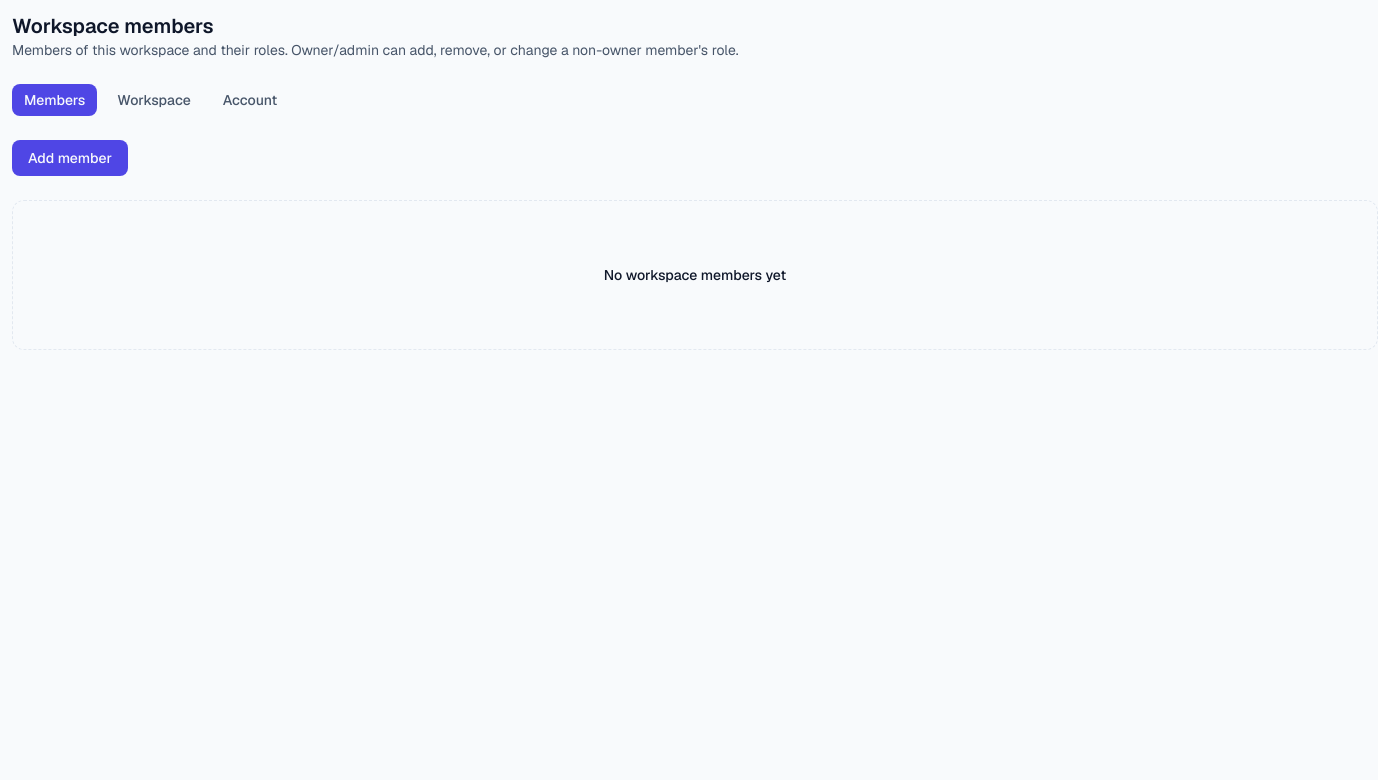
Test: MembersListPage › adding a nonexistent/inactive account shows the real, generic server error
This screenshot has width=1378, height=780.
Expected: the text "No workspace members yet" is shown, [604,266,786,284]
Click the button "Add member": [70, 158] box [12,140,128,176]
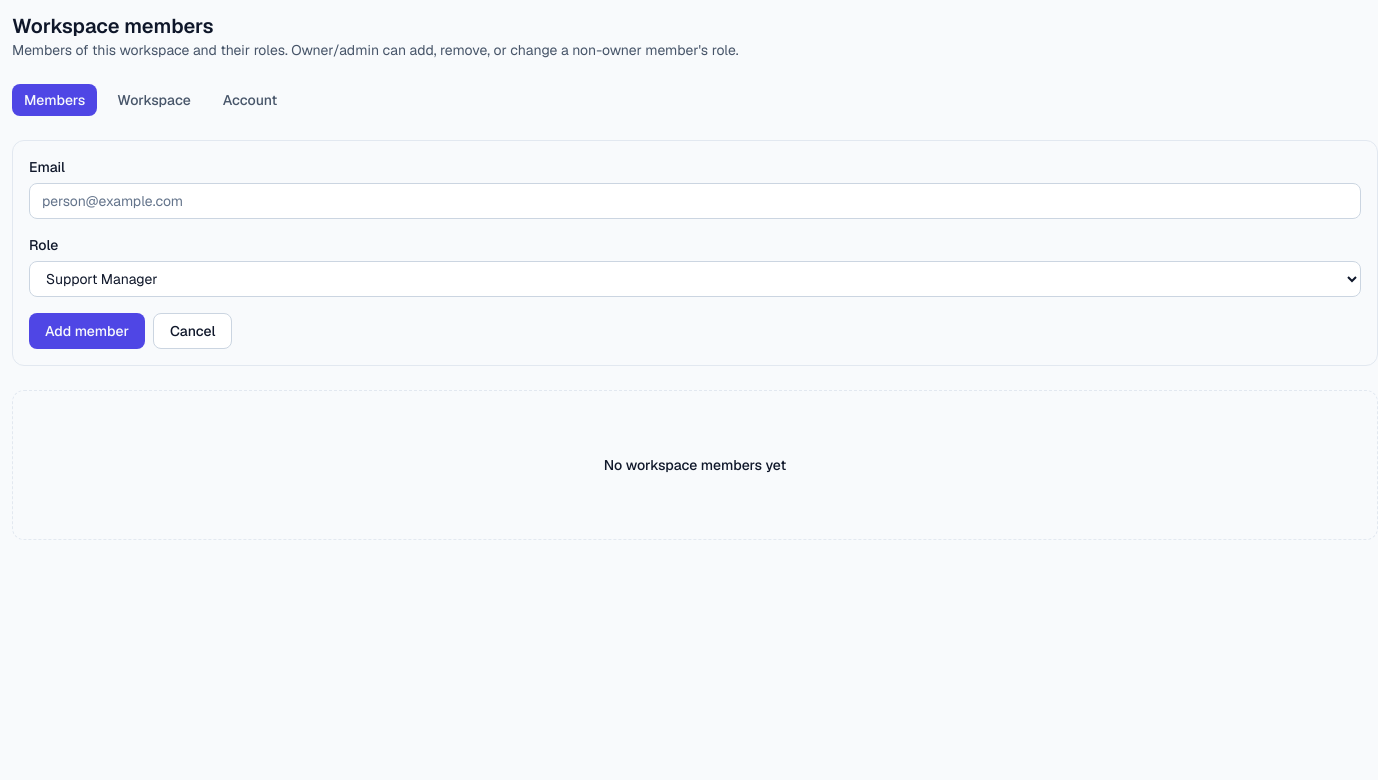
In the field labelled "Email": [695, 201] box [29,183,1361,219], type "unknown@example.com"
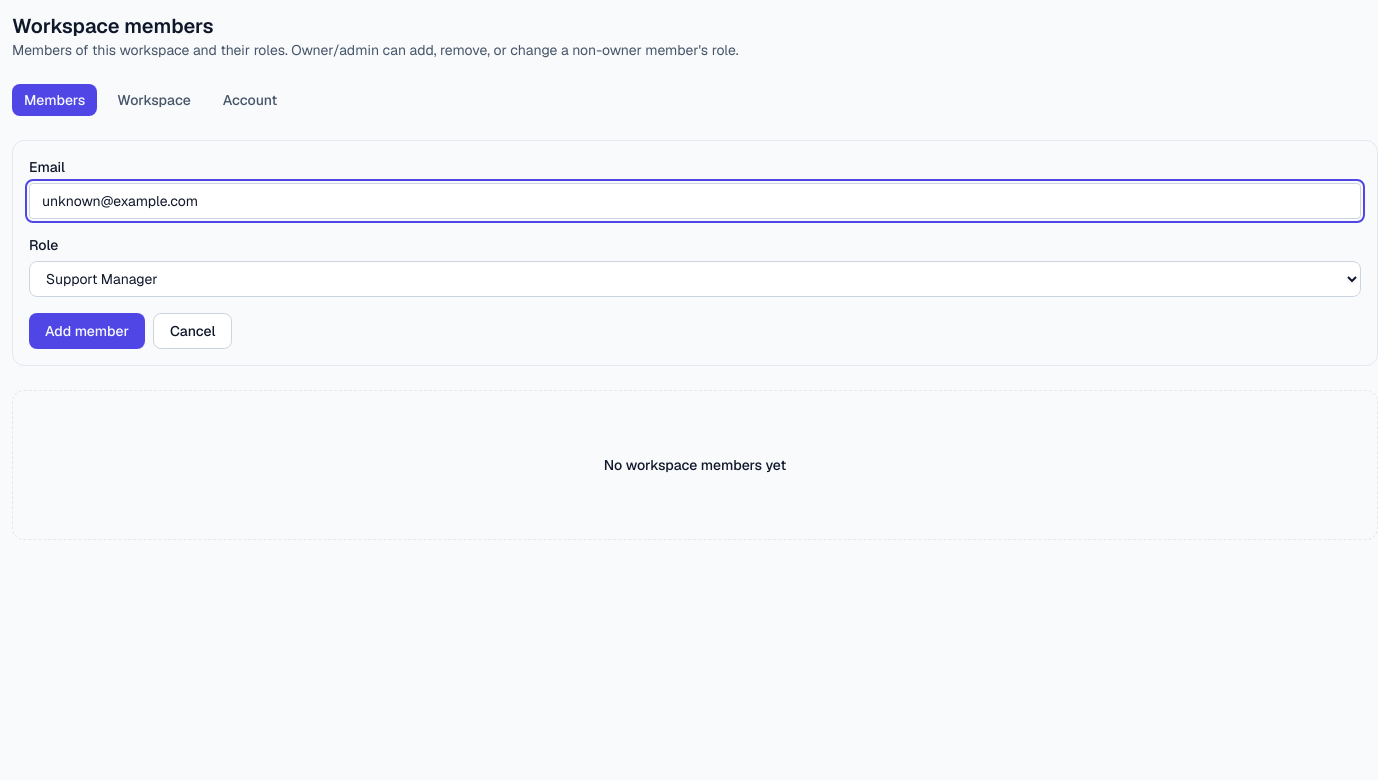
Click the button "Add member": [87, 331] box [29,313,145,349]
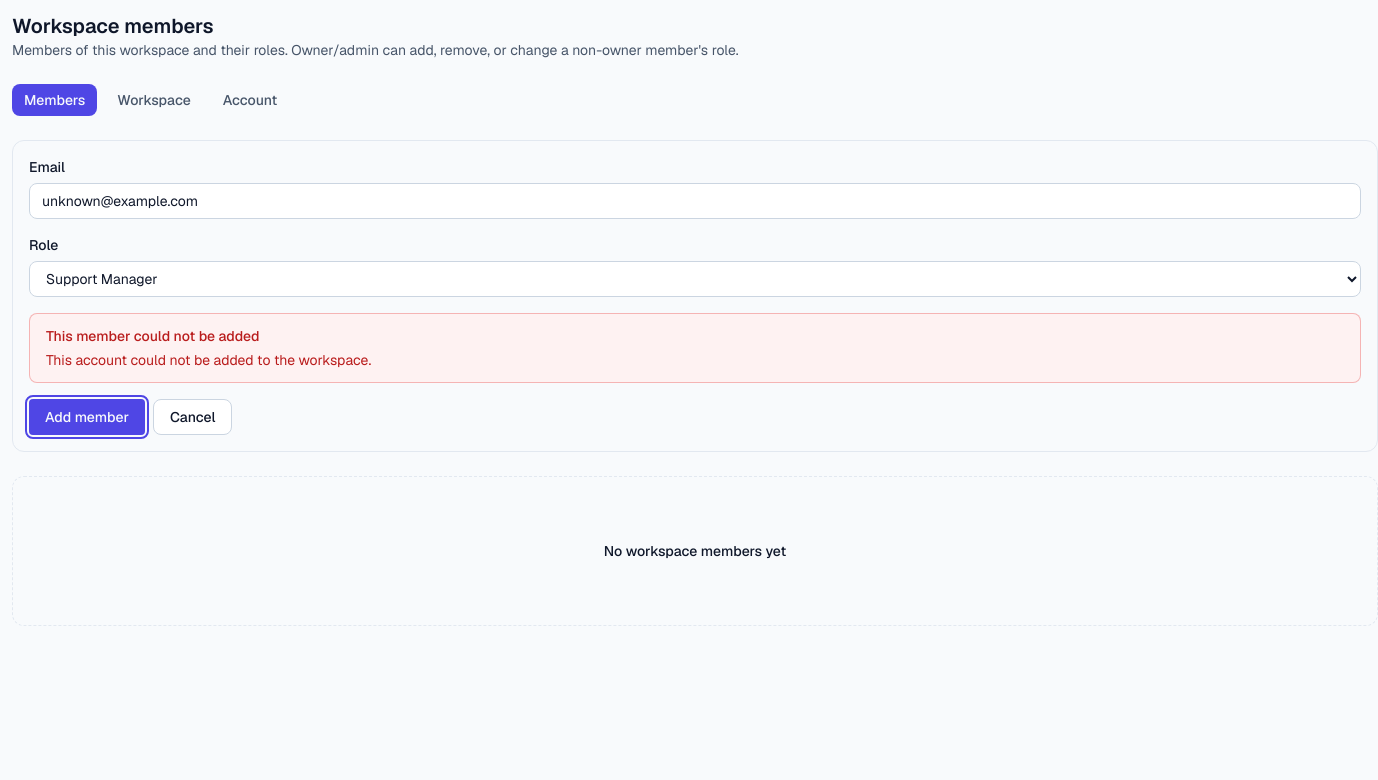
Now the text "This account could not be added to the workspace." is shown, box [46,351,371,369]
